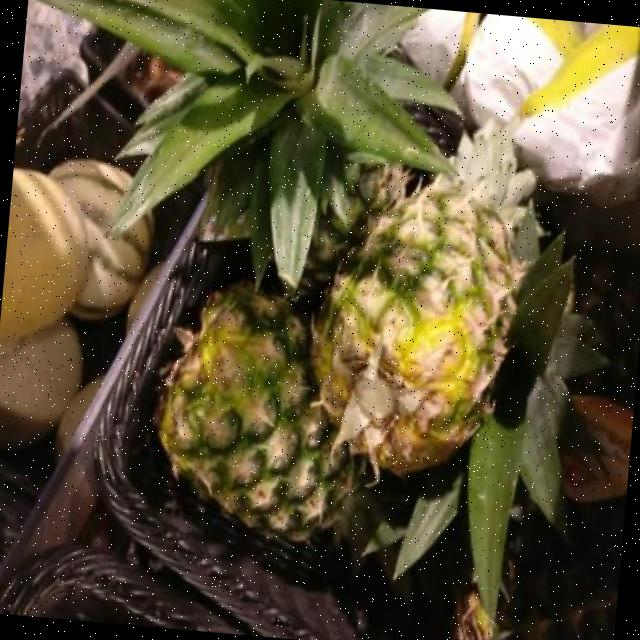pineapple: (41, 0, 457, 288), (310, 126, 533, 474), (156, 286, 380, 543)
